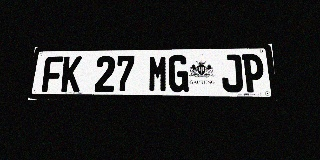2: (94, 56, 115, 92)
7: (114, 55, 135, 92)
F: (41, 56, 63, 92)
G: (169, 55, 189, 92)
J: (221, 54, 243, 92)
K: (61, 56, 82, 92)
M: (148, 55, 168, 92)
P: (242, 54, 265, 92)
